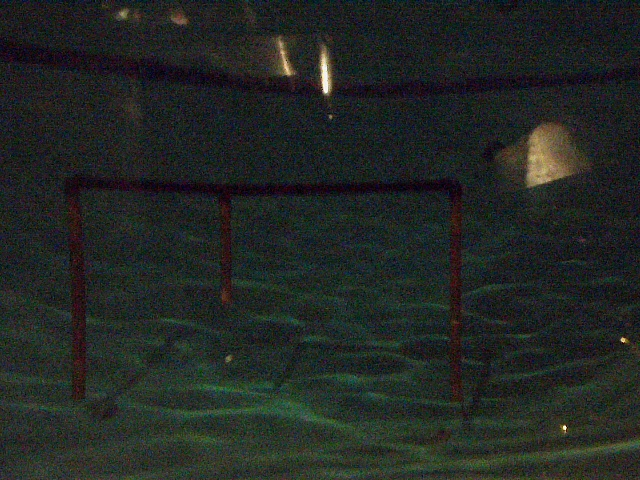Gate: (68, 190, 87, 405), (446, 188, 464, 407), (215, 195, 235, 306)
